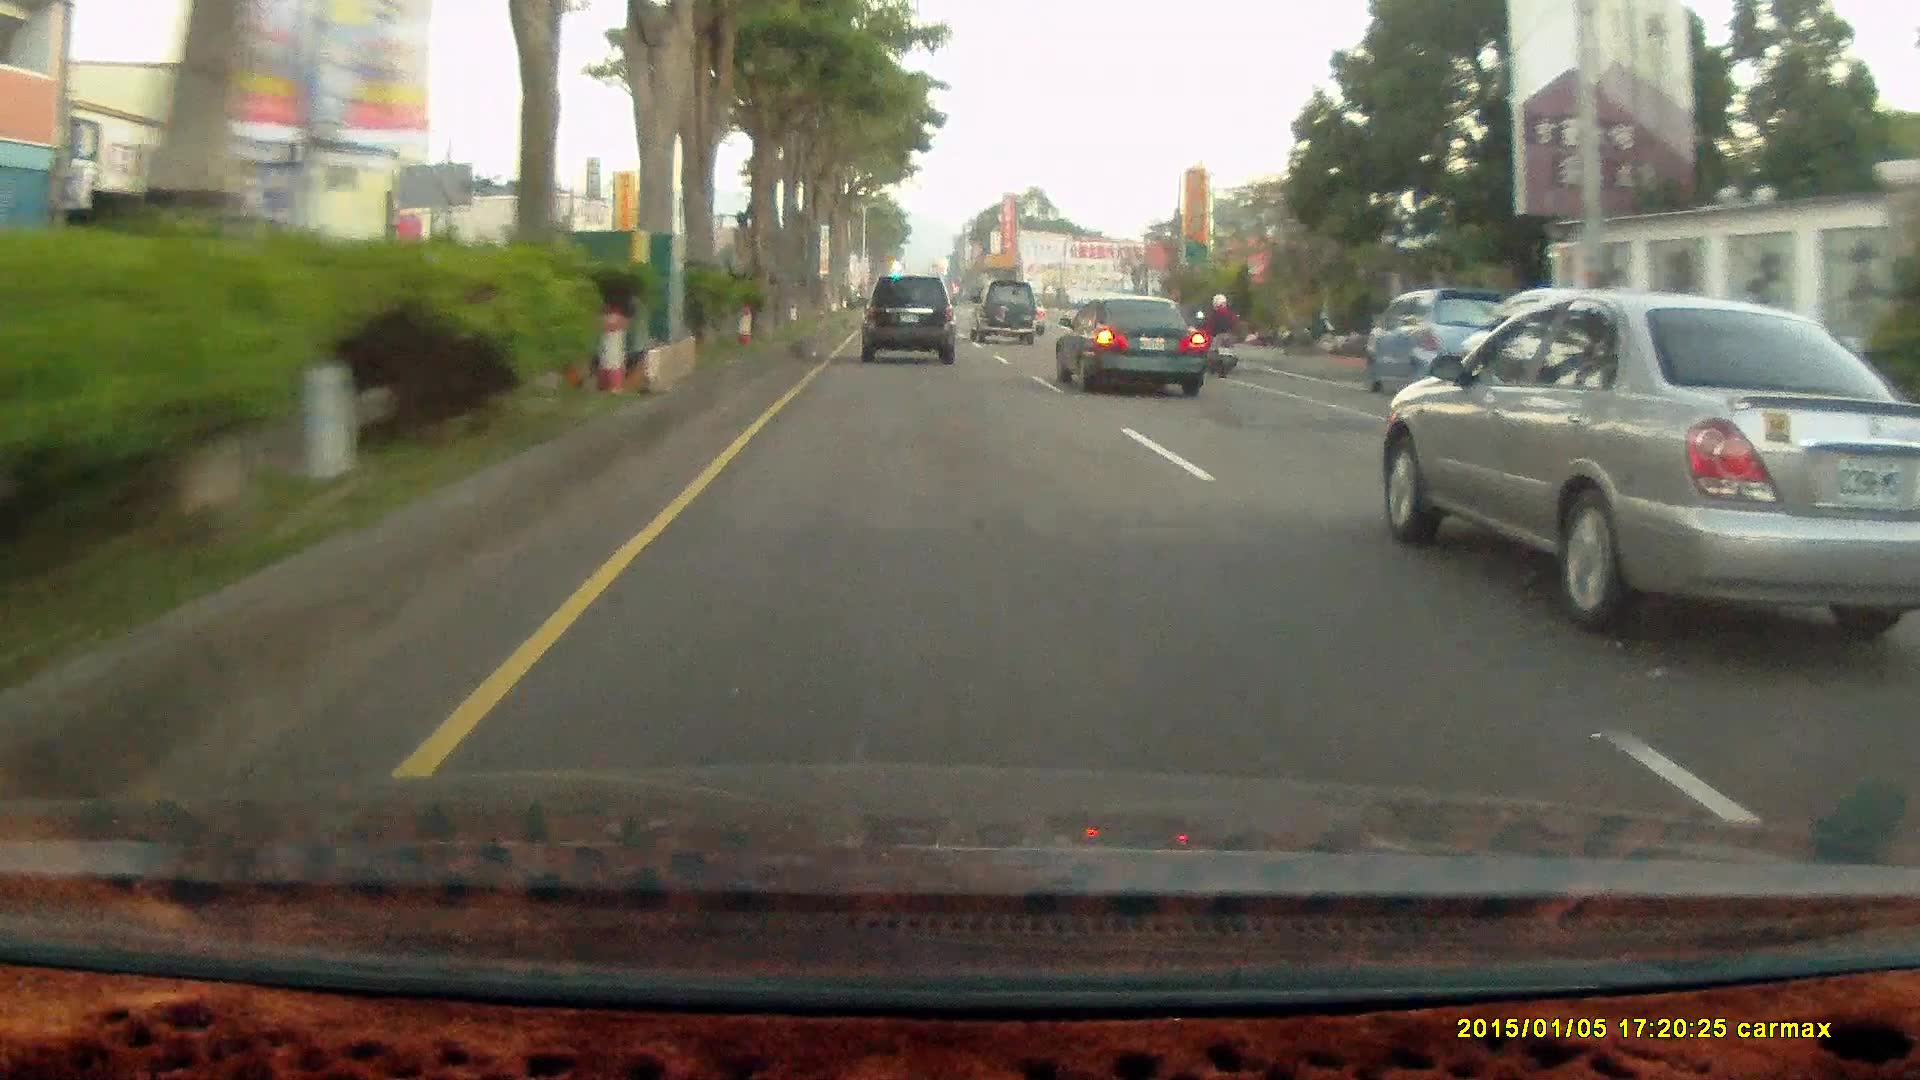rider: (1199, 295, 1242, 382)
vehicle: (1383, 299, 1920, 641), (1360, 290, 1526, 394), (1360, 285, 1525, 388), (1058, 295, 1211, 400), (1053, 293, 1207, 396), (859, 273, 964, 370), (856, 274, 955, 364), (970, 280, 1038, 348), (969, 279, 1037, 343)
